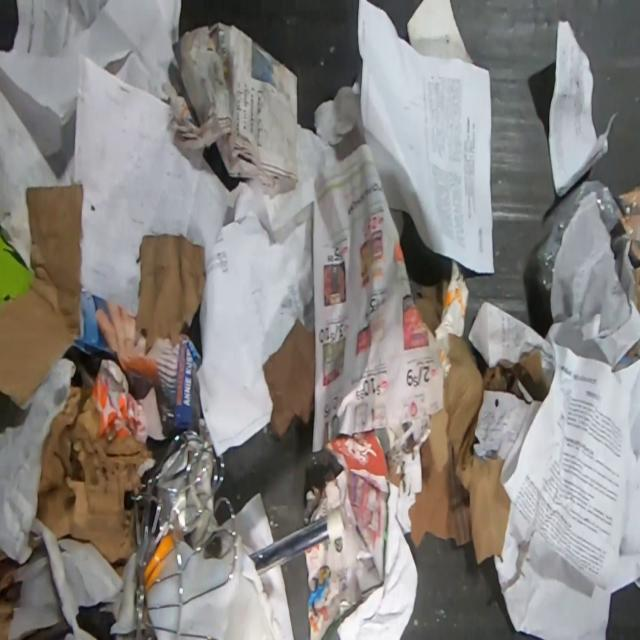cardboard: (407, 326, 546, 563), (35, 385, 153, 577), (0, 183, 84, 407), (0, 543, 25, 639)
metal: (128, 429, 237, 640), (248, 507, 348, 575)
soft_plastic: (537, 178, 640, 310)
